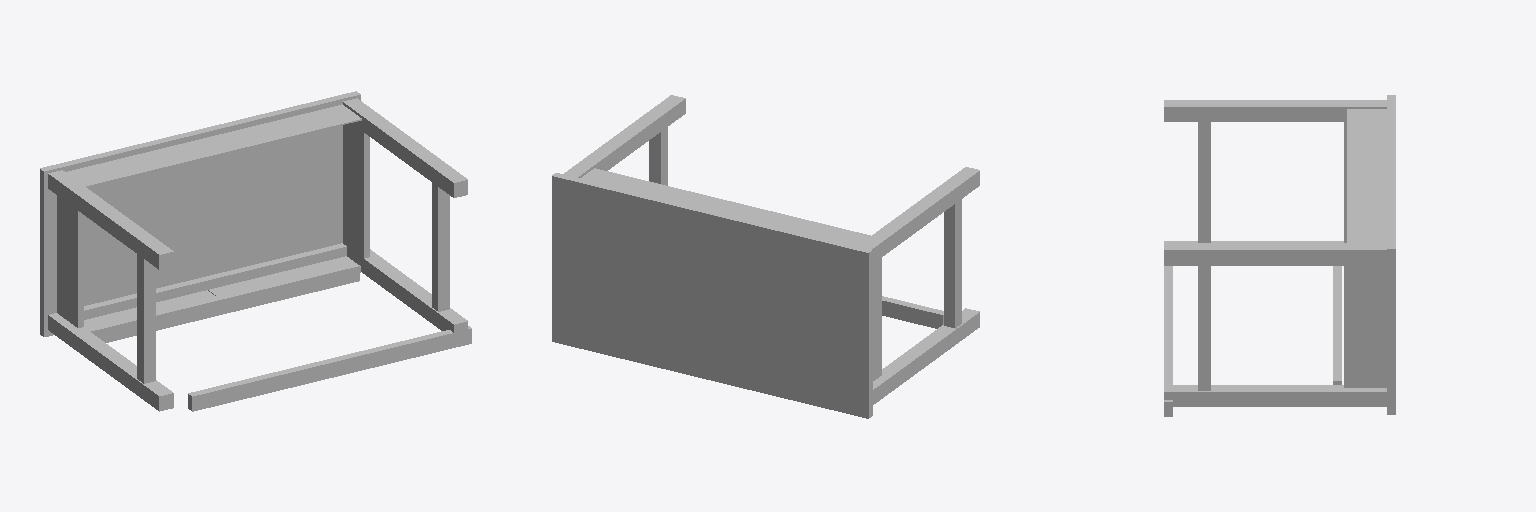
Rendered from tablecenter.obj.
3 renders of one model, left to right at view 1: azimuth 30°, elevation 25°; view 2: azimuth 150°, elevation 25°; view 3: azimuth 270°, elevation 25°, orthographic.
Parts seen in each view (by area): view 1: group_3.001_ID46, group_10.001_ID123, group_9.001_ID112, group_8.001_ID101, group_4.001_ID57, group_7.001_ID90, group_6.001_ID79, group_0.001_ID6, group_2.001_ID35, group_5.001_ID68, group_1.001_ID24, group_13.001_ID156 (+3 smaller); view 2: group_3.001_ID46, group_10.001_ID123, group_4.001_ID57, group_0.001_ID6, group_2.001_ID35, group_13.001_ID156, group_9.001_ID112, group_5.001_ID68, group_14.001_ID167; view 3: group_10.001_ID123, group_6.001_ID79, group_0.001_ID6, group_1.001_ID24, group_4.001_ID57, group_3.001_ID46, group_14.001_ID167, group_13.001_ID156, group_9.001_ID112, group_8.001_ID101.
Part boxes in pixels (bbox=[...]): group_3.001_ID46: bbox=[40, 91, 360, 336]; group_10.001_ID123: bbox=[66, 104, 361, 186]; group_9.001_ID112: bbox=[188, 326, 471, 411]; group_8.001_ID101: bbox=[86, 263, 359, 342]; group_4.001_ID57: bbox=[48, 170, 173, 269]; group_7.001_ID90: bbox=[84, 243, 346, 319]; group_6.001_ID79: bbox=[343, 123, 369, 258]; group_0.001_ID6: bbox=[343, 98, 467, 197]; group_2.001_ID35: bbox=[48, 313, 173, 411]; group_5.001_ID68: bbox=[57, 196, 83, 327]; group_1.001_ID24: bbox=[347, 247, 467, 333]; group_13.001_ID156: bbox=[137, 254, 155, 383]; group_3.001_ID46: bbox=[552, 173, 872, 418]; group_10.001_ID123: bbox=[581, 168, 870, 245]; group_4.001_ID57: bbox=[858, 167, 979, 263]; group_0.001_ID6: bbox=[564, 95, 685, 177]; group_2.001_ID35: bbox=[873, 308, 979, 404]; group_13.001_ID156: bbox=[944, 199, 961, 328]; group_9.001_ID112: bbox=[882, 296, 943, 328]; group_5.001_ID68: bbox=[873, 258, 881, 380]; group_14.001_ID167: bbox=[649, 127, 667, 185]; group_10.001_ID123: bbox=[1347, 109, 1386, 242]; group_6.001_ID79: bbox=[1344, 266, 1386, 387]; group_0.001_ID6: bbox=[1164, 243, 1386, 265]; group_1.001_ID24: bbox=[1164, 385, 1386, 406]; group_4.001_ID57: bbox=[1164, 100, 1386, 121]; group_3.001_ID46: bbox=[1387, 95, 1395, 414]; group_14.001_ID167: bbox=[1198, 266, 1210, 390]; group_13.001_ID156: bbox=[1198, 122, 1210, 242]; group_9.001_ID112: bbox=[1164, 266, 1172, 416]; group_8.001_ID101: bbox=[1333, 266, 1341, 384].
Bounding box in the file's own units: 0.3821 × 0.1932 × 0.242.